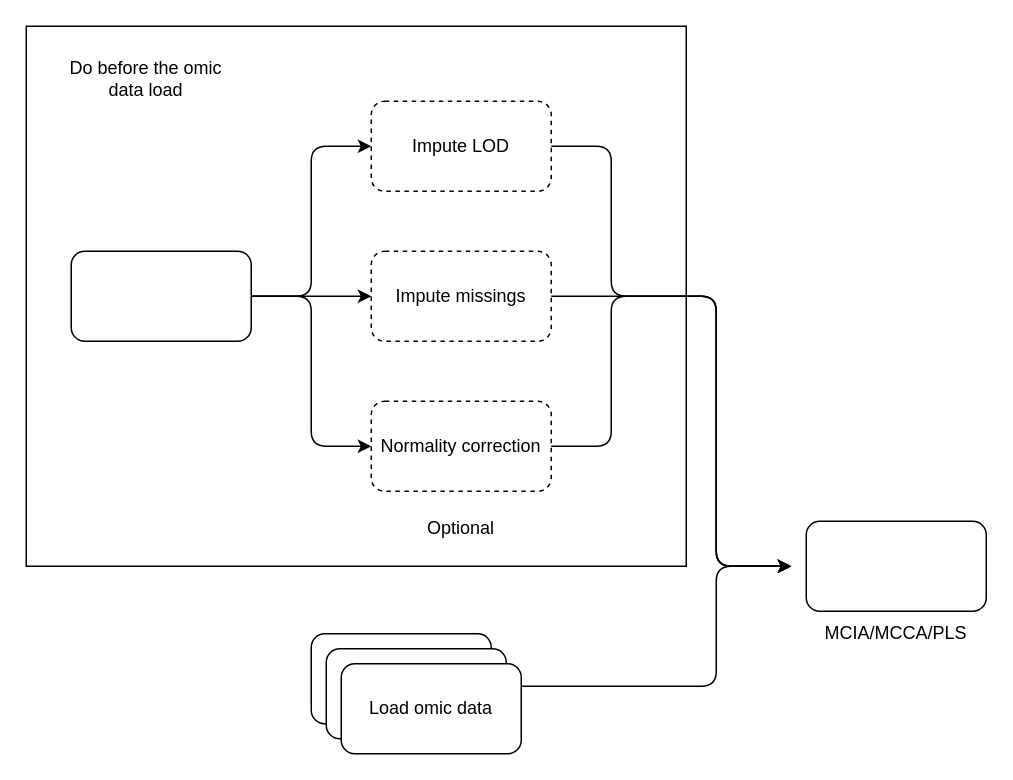
This 1013x780 diagram has some shape labels left out. Here are the shapes that lost their labels. From the top down, the centre of each, then its label:
At (160,295): "Load exposome data".
At (895,565): "Integration analysis".
